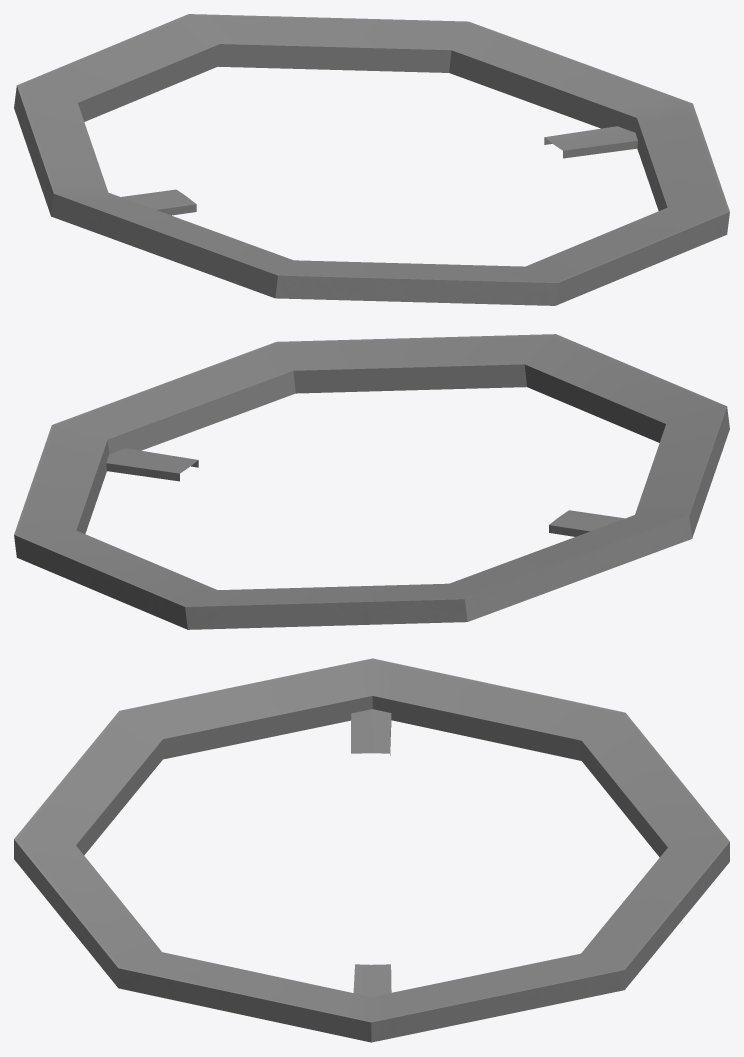
The model's file is STRAYKIDS_06.glb.
3 views of the same model, one above another, from view 1: azimuth 30°, elevation 25°; view 2: azimuth 150°, elevation 25°; view 3: azimuth 270°, elevation 25° (orthographic). The views are drawn at different scales.
Size of the model in its own units: 0.2185 by 0.0285 by 0.2185.
1 material, 1 textured.
